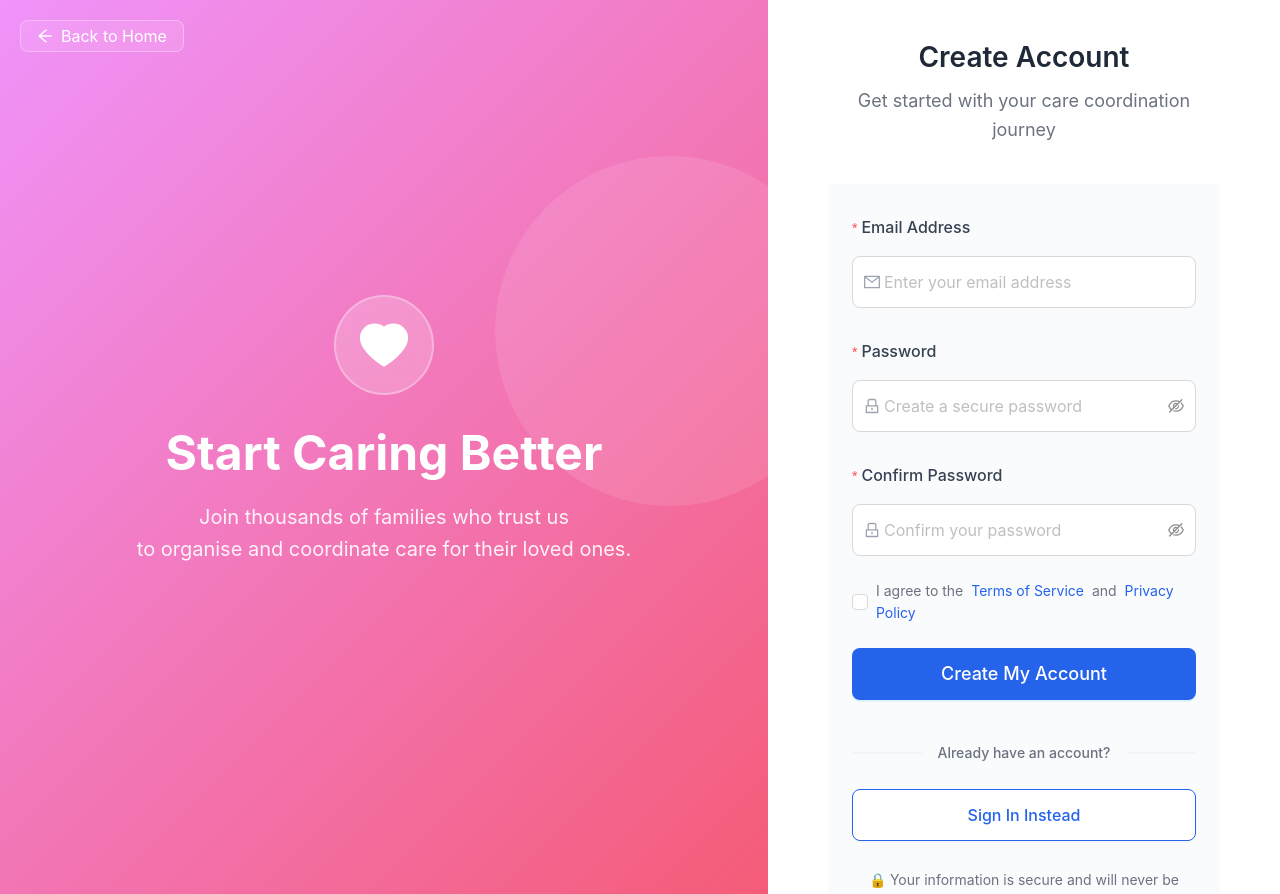
Scenario: Signup Component › error message if Terms and Conditions are not accepted
The width and height of the screenshot is (1280, 894).
Type "test@example.com" into the field with placeholder "Enter your email address" at (1034, 282), box x1=884 y1=264 x2=1184 y2=300
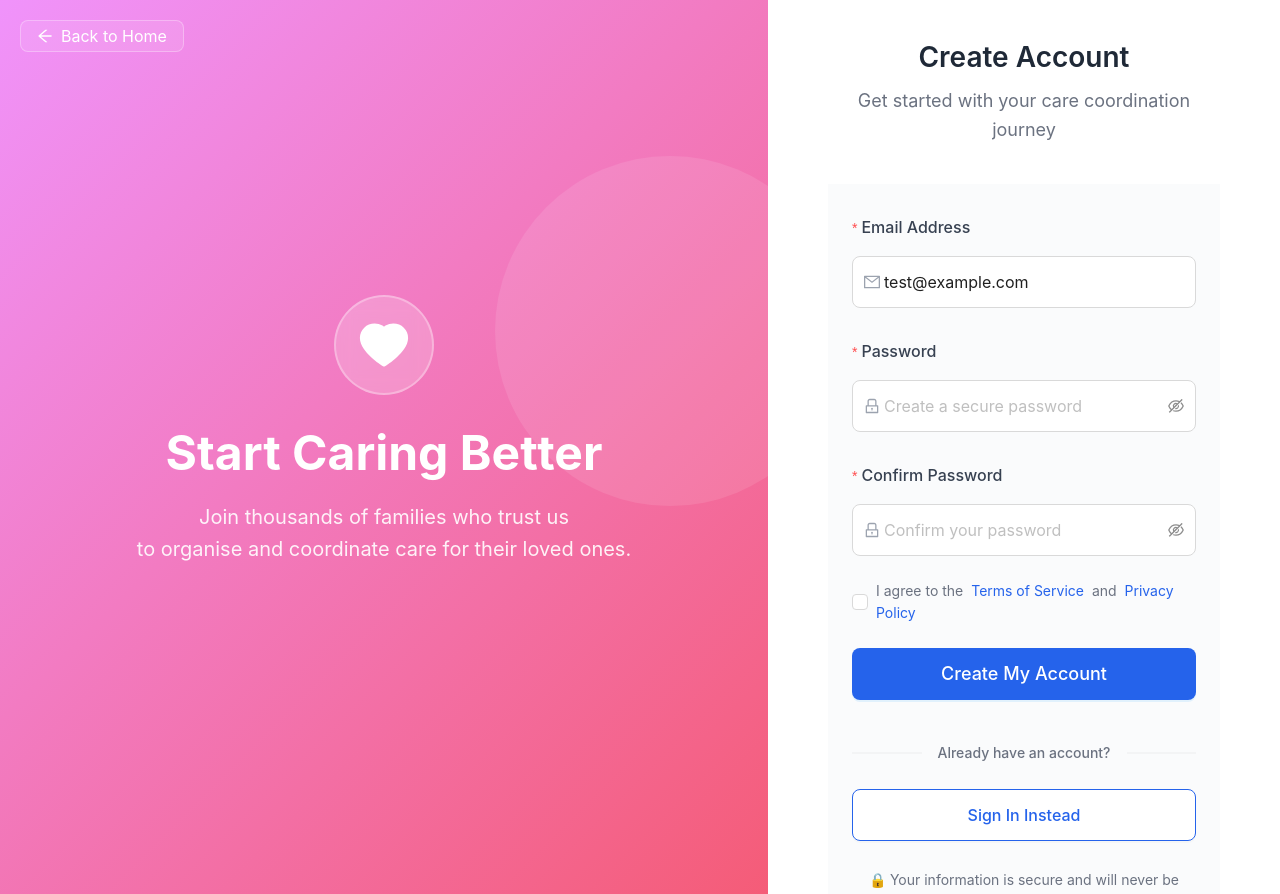
Type "password123" into the password field with placeholder "Create a secure password" at (1024, 406), box x1=884 y1=388 x2=1164 y2=424
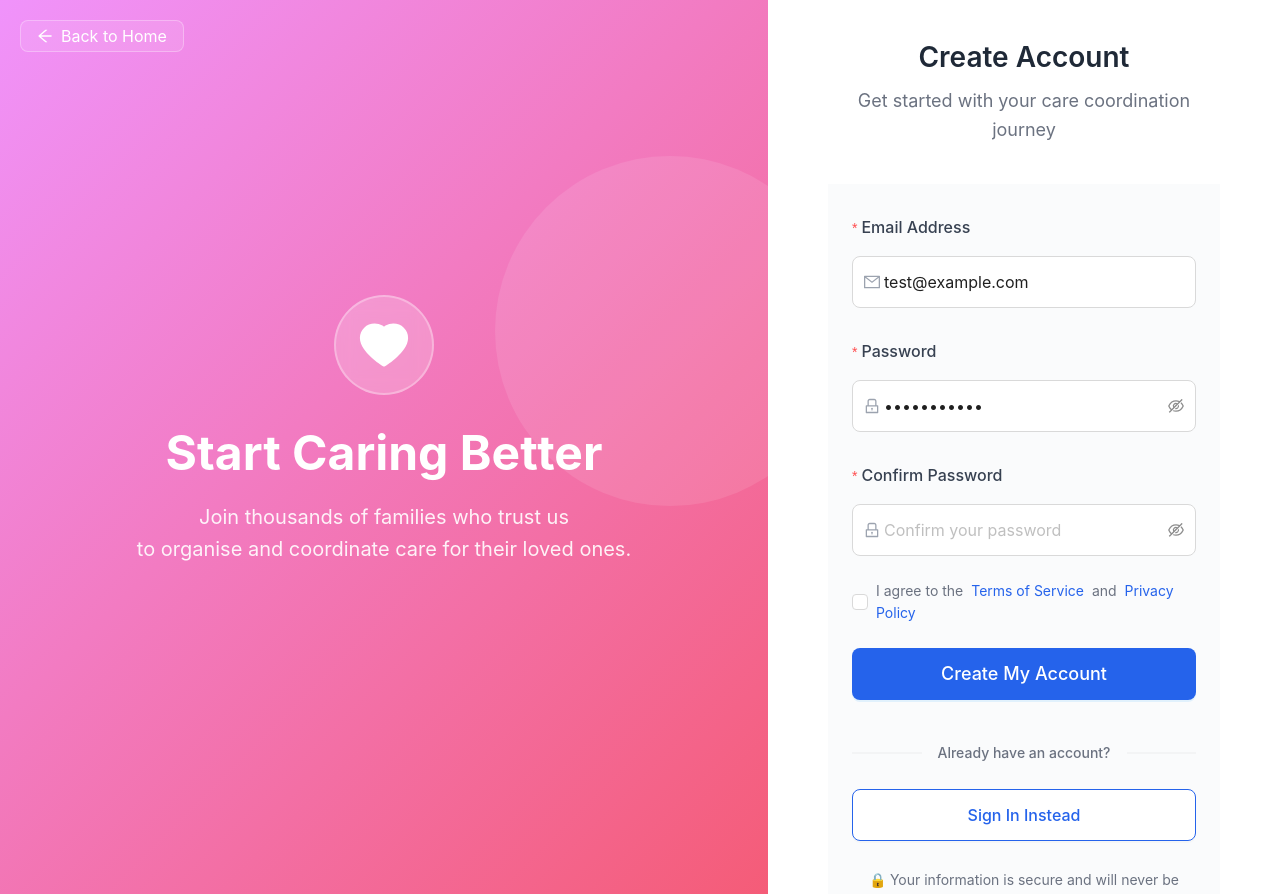
Type "password123" into the password field with placeholder "Confirm your password" at (1024, 530), box x1=884 y1=512 x2=1164 y2=548
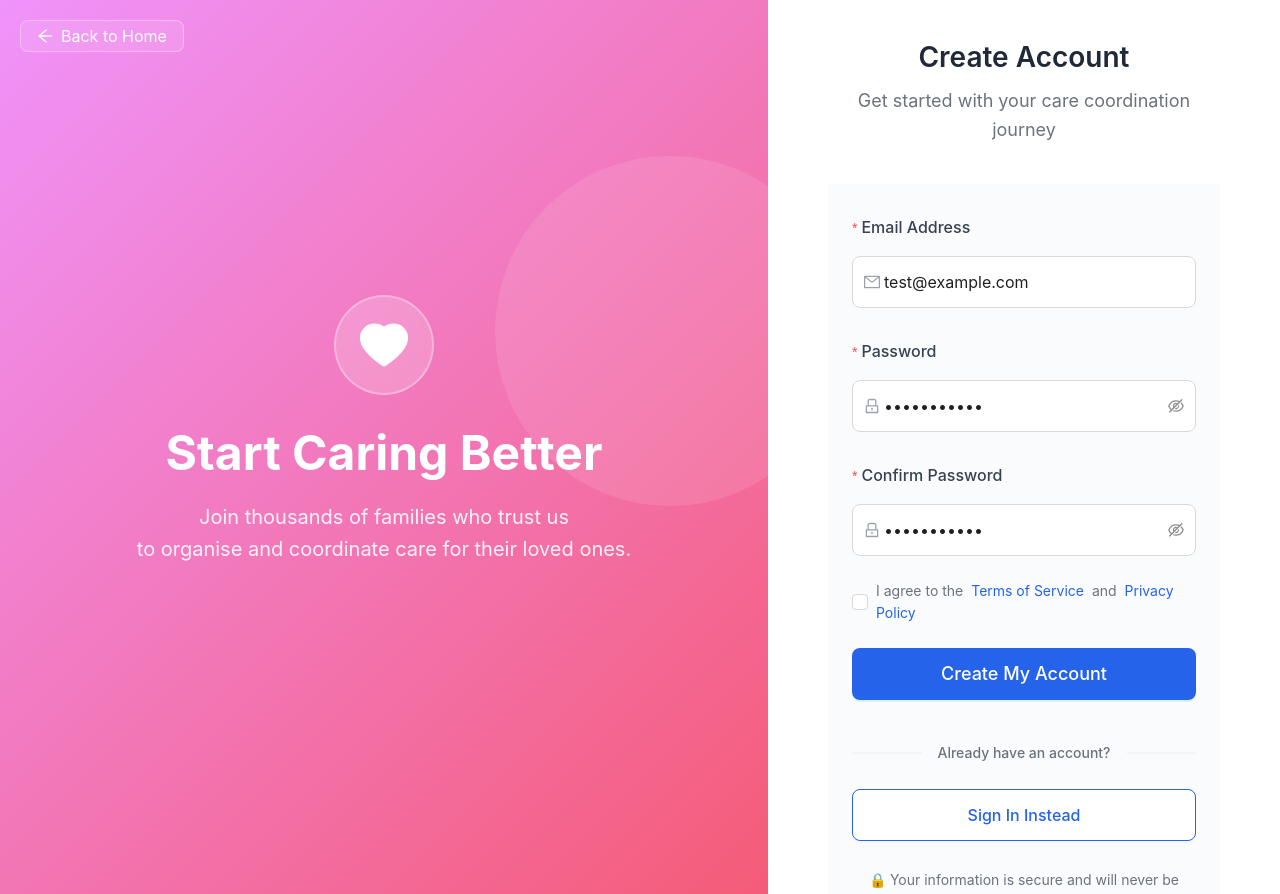
Click the button "Create My Account" at (1024, 674), box x1=852 y1=648 x2=1196 y2=700
(page scrolled)
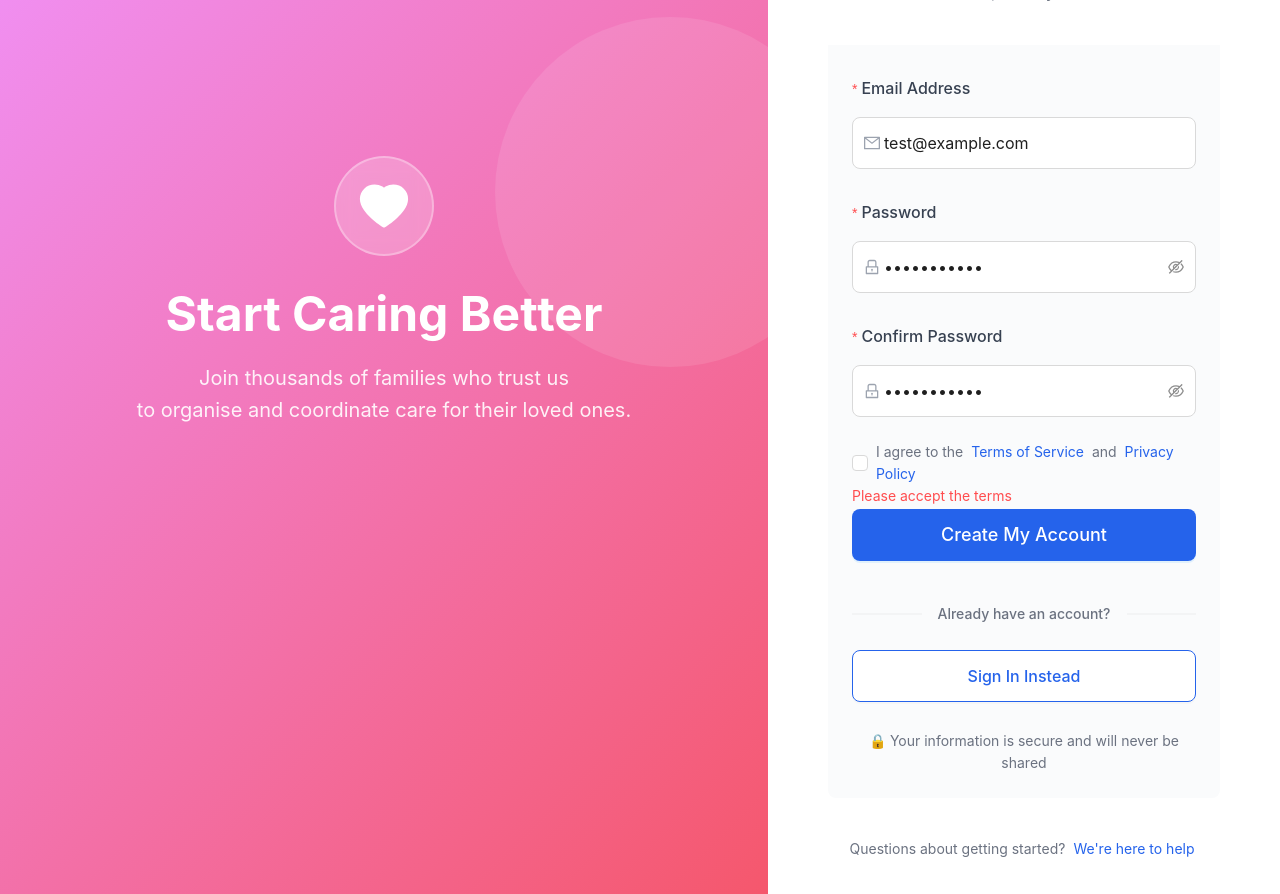
Check: the text "Please accept the terms" is shown, box x1=852 y1=487 x2=1012 y2=504
